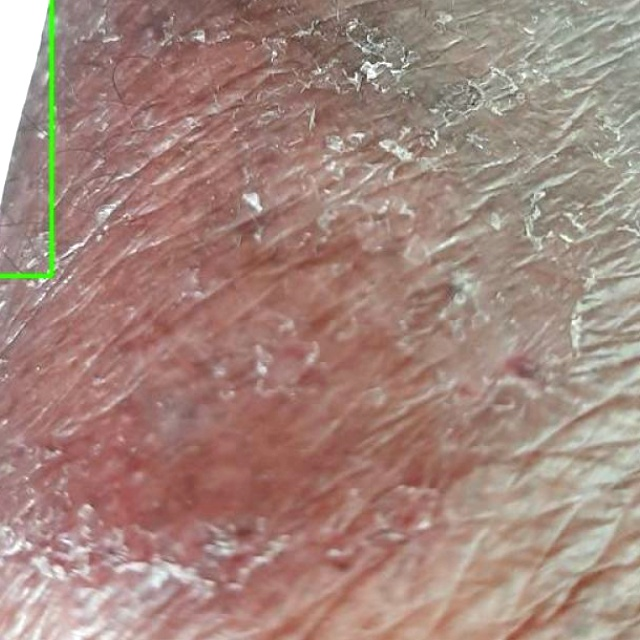Tinea Corporis: (0, 0, 51, 276)
